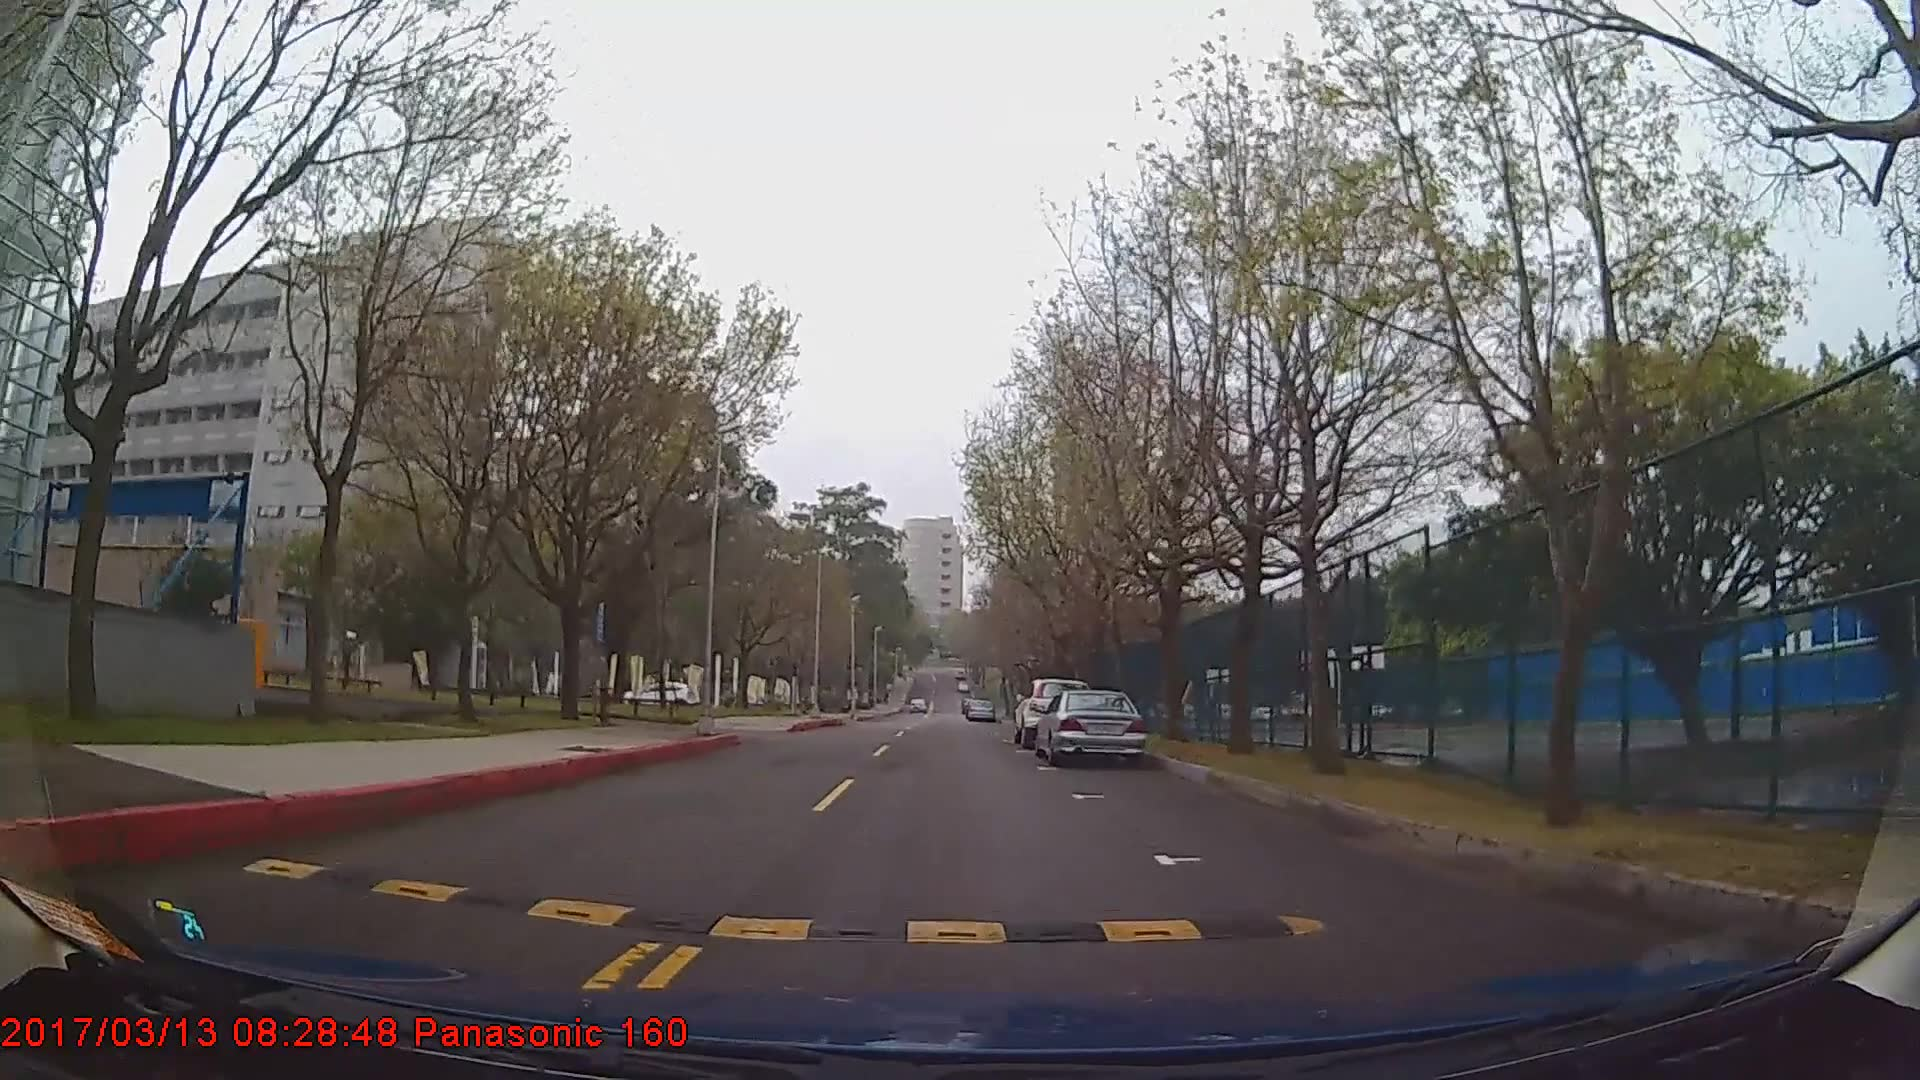vehicle: (1034, 688, 1147, 762), (1013, 676, 1092, 746), (963, 694, 994, 715)
